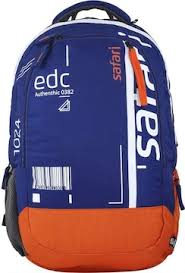backpack: (1, 0, 184, 272)
